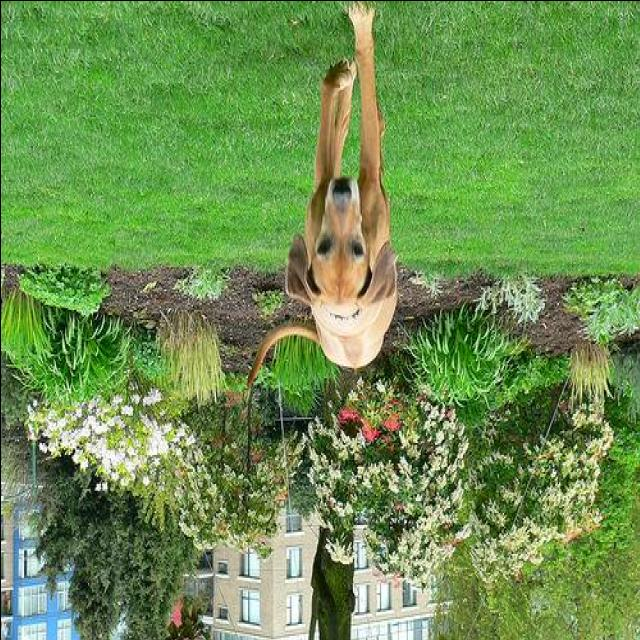rhodesian_ridgeback: (236, 1, 404, 392)
